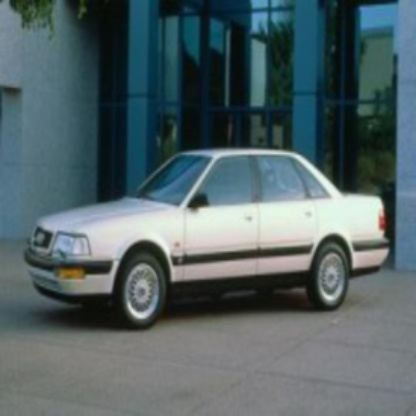Vehicle: (26, 157, 390, 340)
